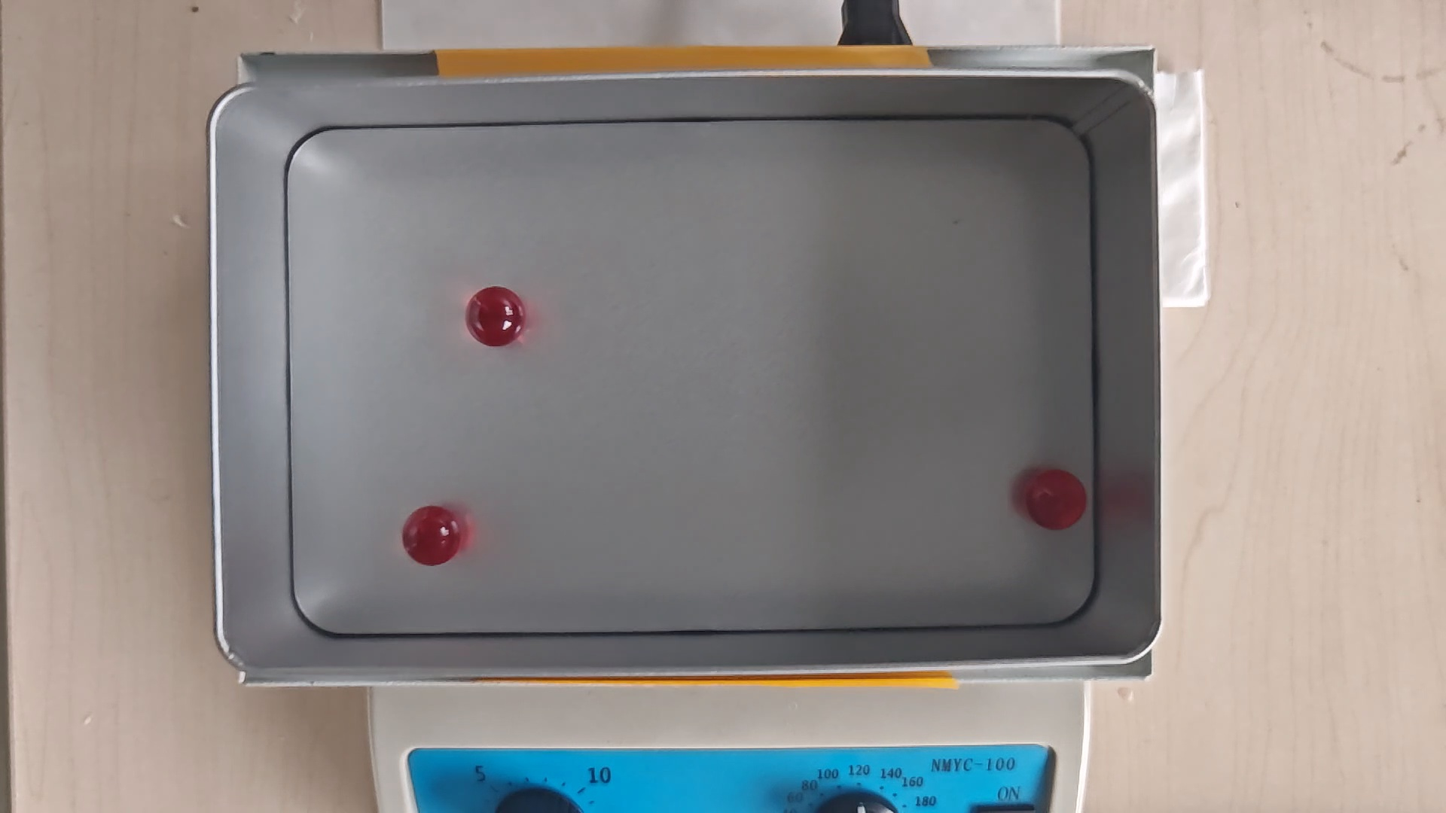ball: (1026, 469, 1087, 531), (465, 285, 523, 348), (403, 507, 464, 565)
container: (282, 121, 1097, 632)
